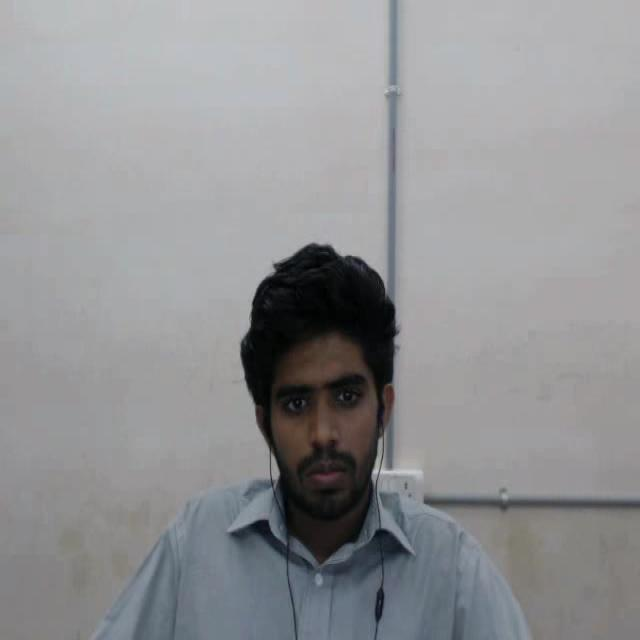Engaged: (218, 210, 410, 556)
